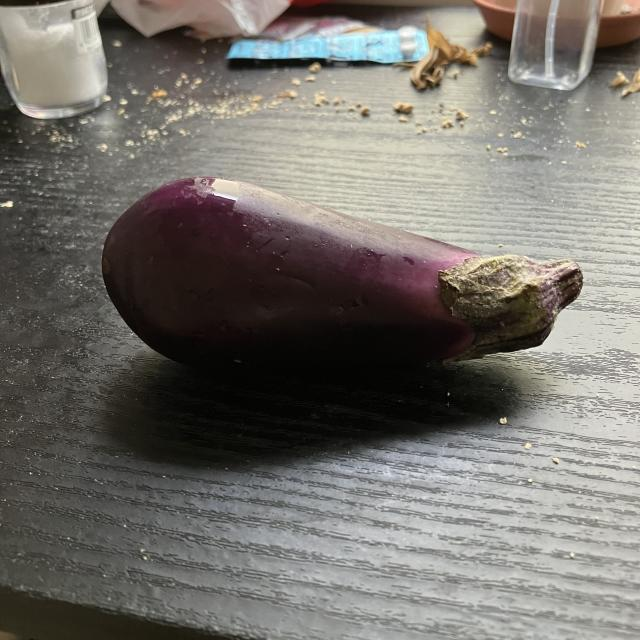eggplant: (99, 173, 586, 381)
